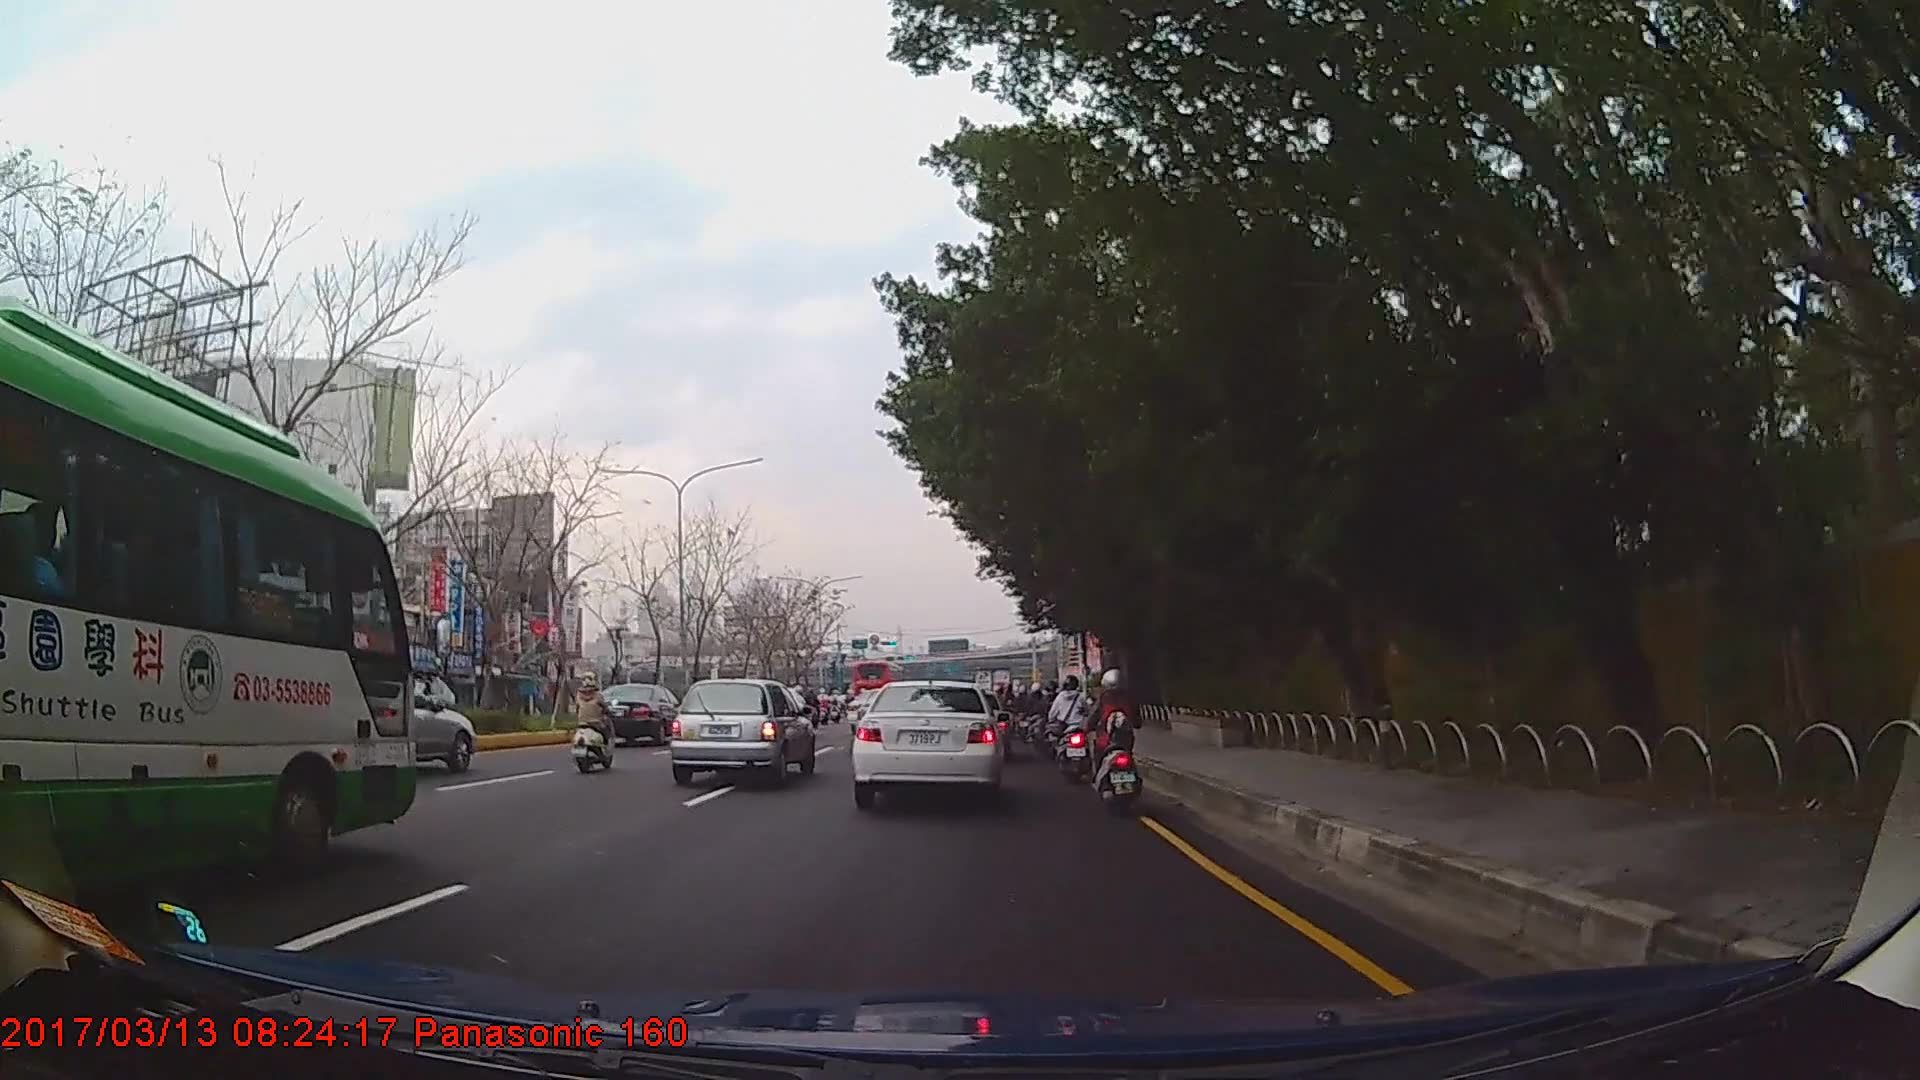rider: (1086, 663, 1149, 816), (1052, 675, 1096, 783), (574, 674, 616, 774), (1042, 681, 1065, 751)
vehicle: (0, 293, 418, 904), (848, 680, 1005, 808), (671, 676, 818, 787), (348, 678, 474, 772), (583, 681, 690, 746), (850, 657, 903, 707)
